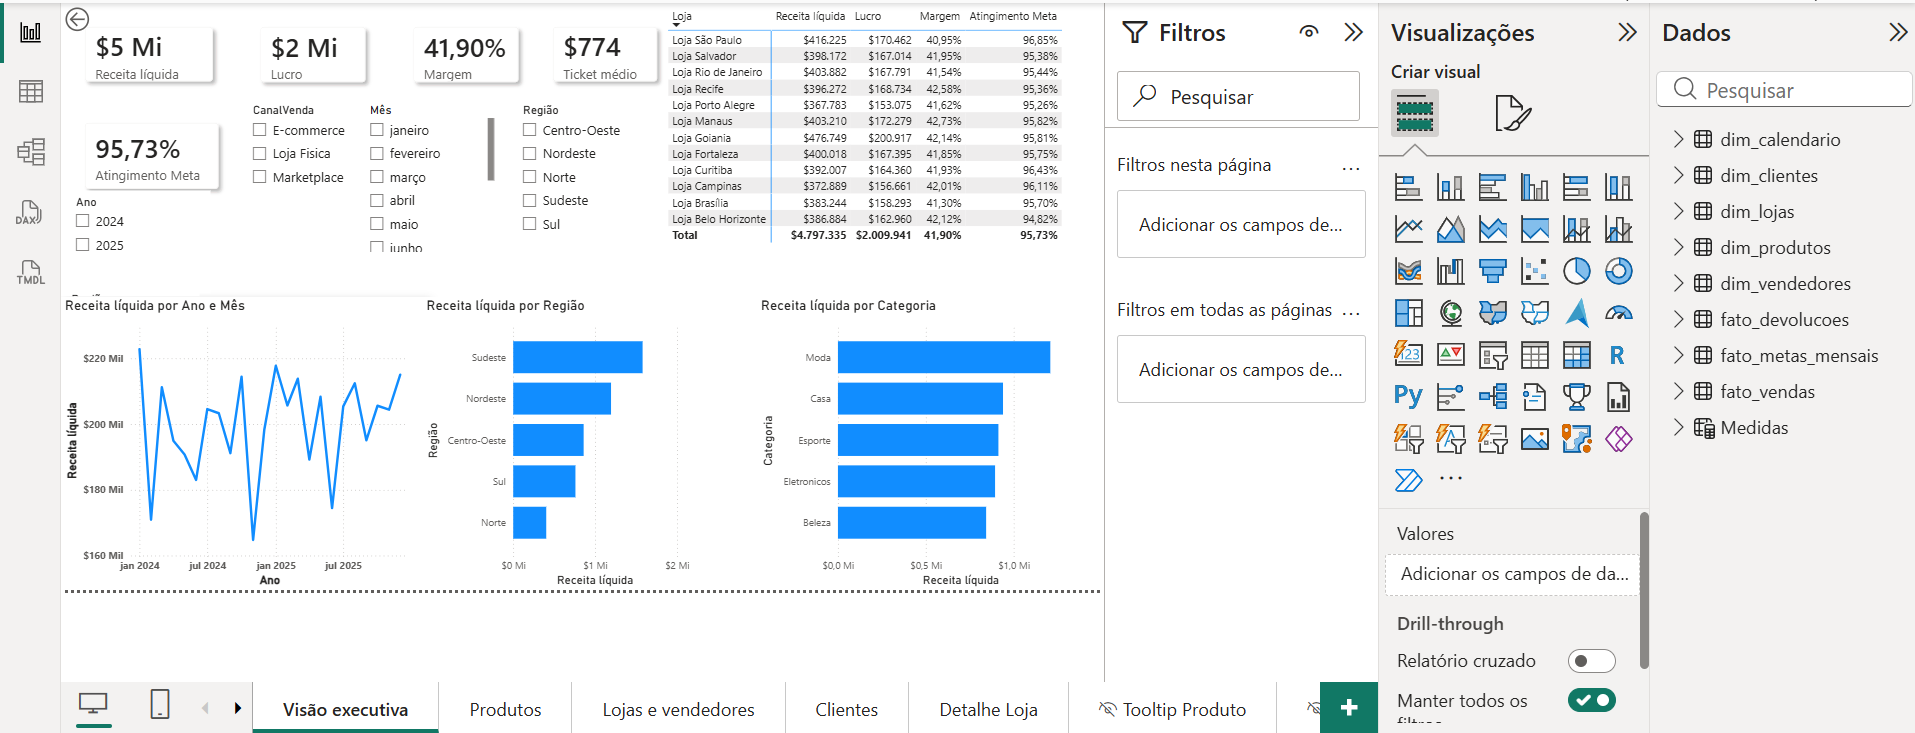

Layout of this report page (visuals, bound fields, positions):
{"tool":"powerbi","page":{"name":"Visão executiva","canvas":[1280,720],"ordinal":0},"visuals":[{"type":"cardVisual","fields":{"Data":["Medidas.Receita líquida"]},"box":[0,0,215.4,125.2],"z":0},{"type":"cardVisual","fields":{"Data":["Medidas.Lucro"]},"box":[215.4,0,187,126],"z":1000},{"type":"cardVisual","fields":{"Data":["Medidas.Margem"]},"box":[403.1,0,187,126],"z":2000},{"type":"cardVisual","fields":{"Data":["Medidas.Atingimento Meta"]},"box":[0,117.8,222.7,139.9],"z":2500},{"type":"cardVisual","fields":{"Data":["Medidas.Ticket médio"]},"box":[574.3,0,186.7,125.7],"z":3000},{"type":"lineChart","fields":{"Y":["Medidas.Receita líquida"],"Category":["dim_calendario.Data.Variation.Hierarquia de datas.Ano","dim_calendario.Data.Variation.Hierarquia de datas.Mês"]},"box":[0,360,444,360],"z":5000},{"type":"barChart","fields":{"Y":["Medidas.Receita líquida"],"Category":["dim_produtos.Categoria"]},"box":[854,360,426,360],"z":6000},{"type":"barChart","title":"Receita líquida por Região","fields":{"Y":["Medidas.Receita líquida"],"Category":["dim_lojas.Regiao"]},"box":[444,360,332,360],"z":7000},{"type":"pivotTable","fields":{"Rows":["dim_lojas.Loja"],"Values":["Medidas.Receita líquida","Medidas.Lucro","Medidas.Margem","Medidas.Atingimento Meta"]},"box":[740,0,539.4,309.3],"z":8000},{"type":"slicer","fields":{"Values":["dim_calendario.Ano"]},"box":[6,230,178,126],"z":9000},{"type":"actionButton","box":[0,0,100,40],"z":10000},{"type":"slicer","fields":{"Values":["dim_calendario.AnoMes.Variation.Hierarquia de datas.Mês"]},"box":[366,118,170,192],"z":11000},{"type":"slicer","fields":{"Values":["dim_lojas.Regiao"]},"box":[554,118,170,192],"z":12000},{"type":"slicer","fields":{"Values":["dim_lojas.Regiao"]},"box":[0,350,170,10],"z":13000},{"type":"slicer","fields":{"Values":["fato_vendas.CanalVenda"]},"box":[222.7,117.8,143.6,176.7],"z":14000}]}

Visuals, with their boxes on the page's 1280x720 design canvas (x1, y1, x2, y2). These are canvas units, not pixel positions in the 1915x733 screenshot, which may show the page scaled, cropped or inside an application window:
cardVisual - Medidas.Receita líquida: (0,0,215,125)
cardVisual - Medidas.Lucro: (215,0,402,126)
cardVisual - Medidas.Margem: (403,0,590,126)
cardVisual - Medidas.Atingimento Meta: (0,118,223,258)
cardVisual - Medidas.Ticket médio: (574,0,761,126)
lineChart - Medidas.Receita líquida x dim_calendario.Data.Variation.Hierarquia de datas.Ano: (0,360,444,720)
barChart - Medidas.Receita líquida x dim_produtos.Categoria: (854,360,1280,720)
"Receita líquida por Região" barChart: (444,360,776,720)
pivotTable - dim_lojas.Loja x Medidas.Receita líquida: (740,0,1279,309)
slicer - dim_calendario.Ano: (6,230,184,356)
actionButton: (0,0,100,40)
slicer - dim_calendario.AnoMes.Variation.Hierarquia de datas.Mês: (366,118,536,310)
slicer - dim_lojas.Regiao: (554,118,724,310)
slicer - dim_lojas.Regiao: (0,350,170,360)
slicer - fato_vendas.CanalVenda: (223,118,366,294)
